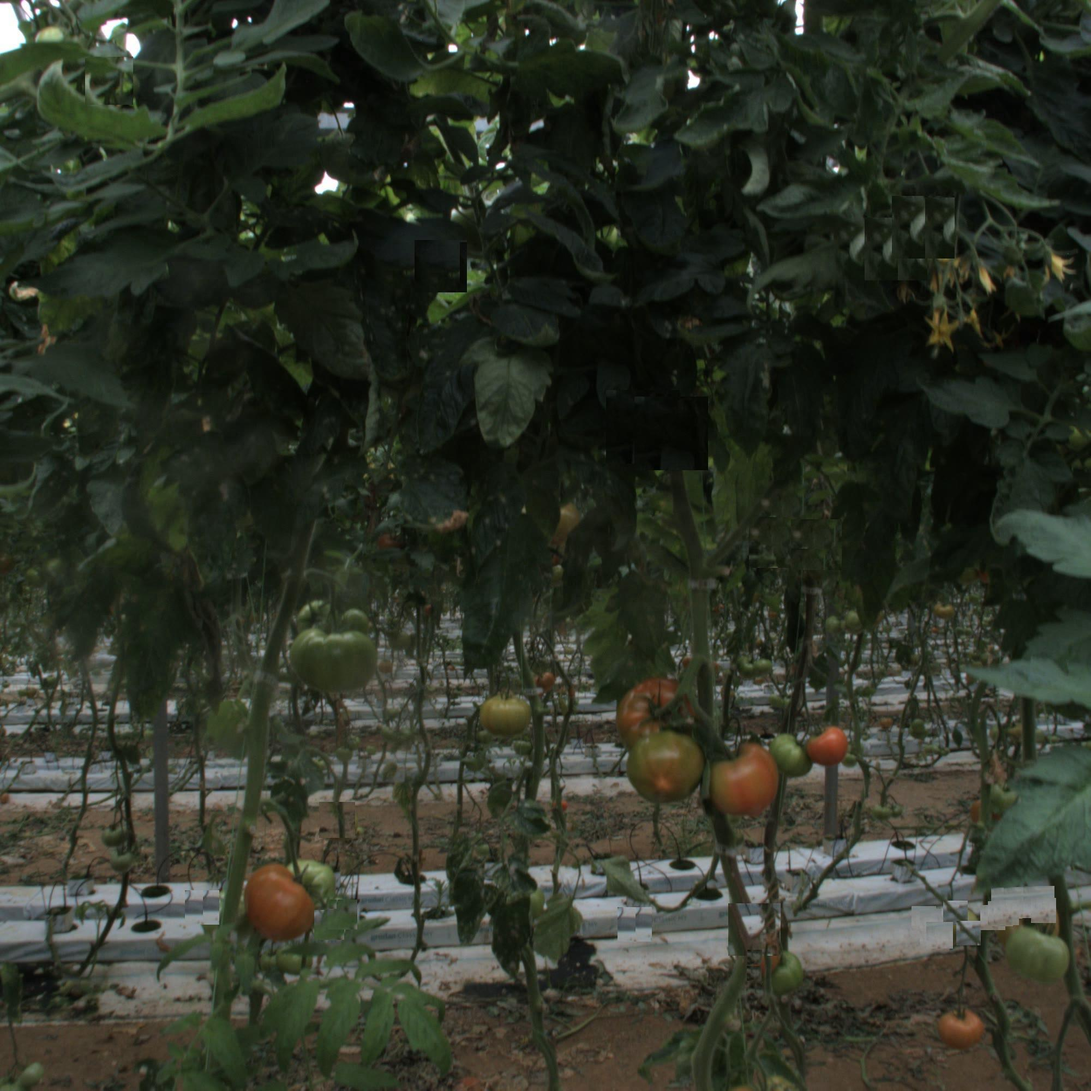['unripe', 'semi-ripe', 'fully-ripe']: (290, 616, 377, 704), (1001, 920, 1070, 989), (281, 853, 335, 906), (768, 733, 816, 781), (763, 952, 804, 993)
